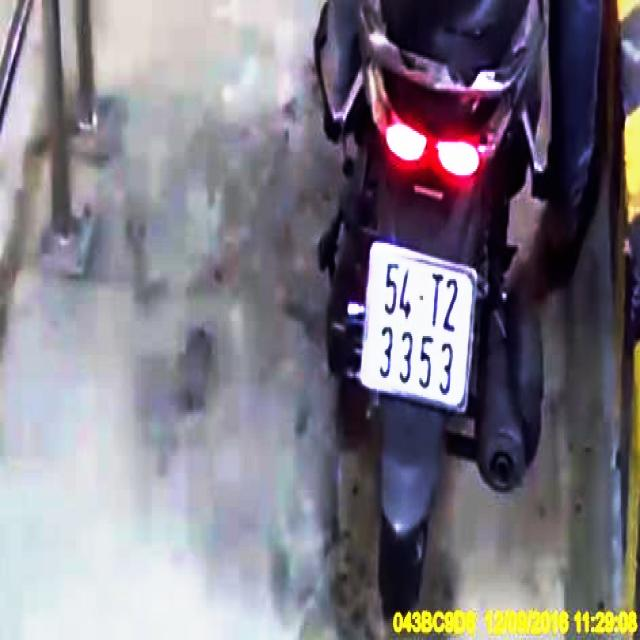license_plate: (362, 242, 480, 414)
